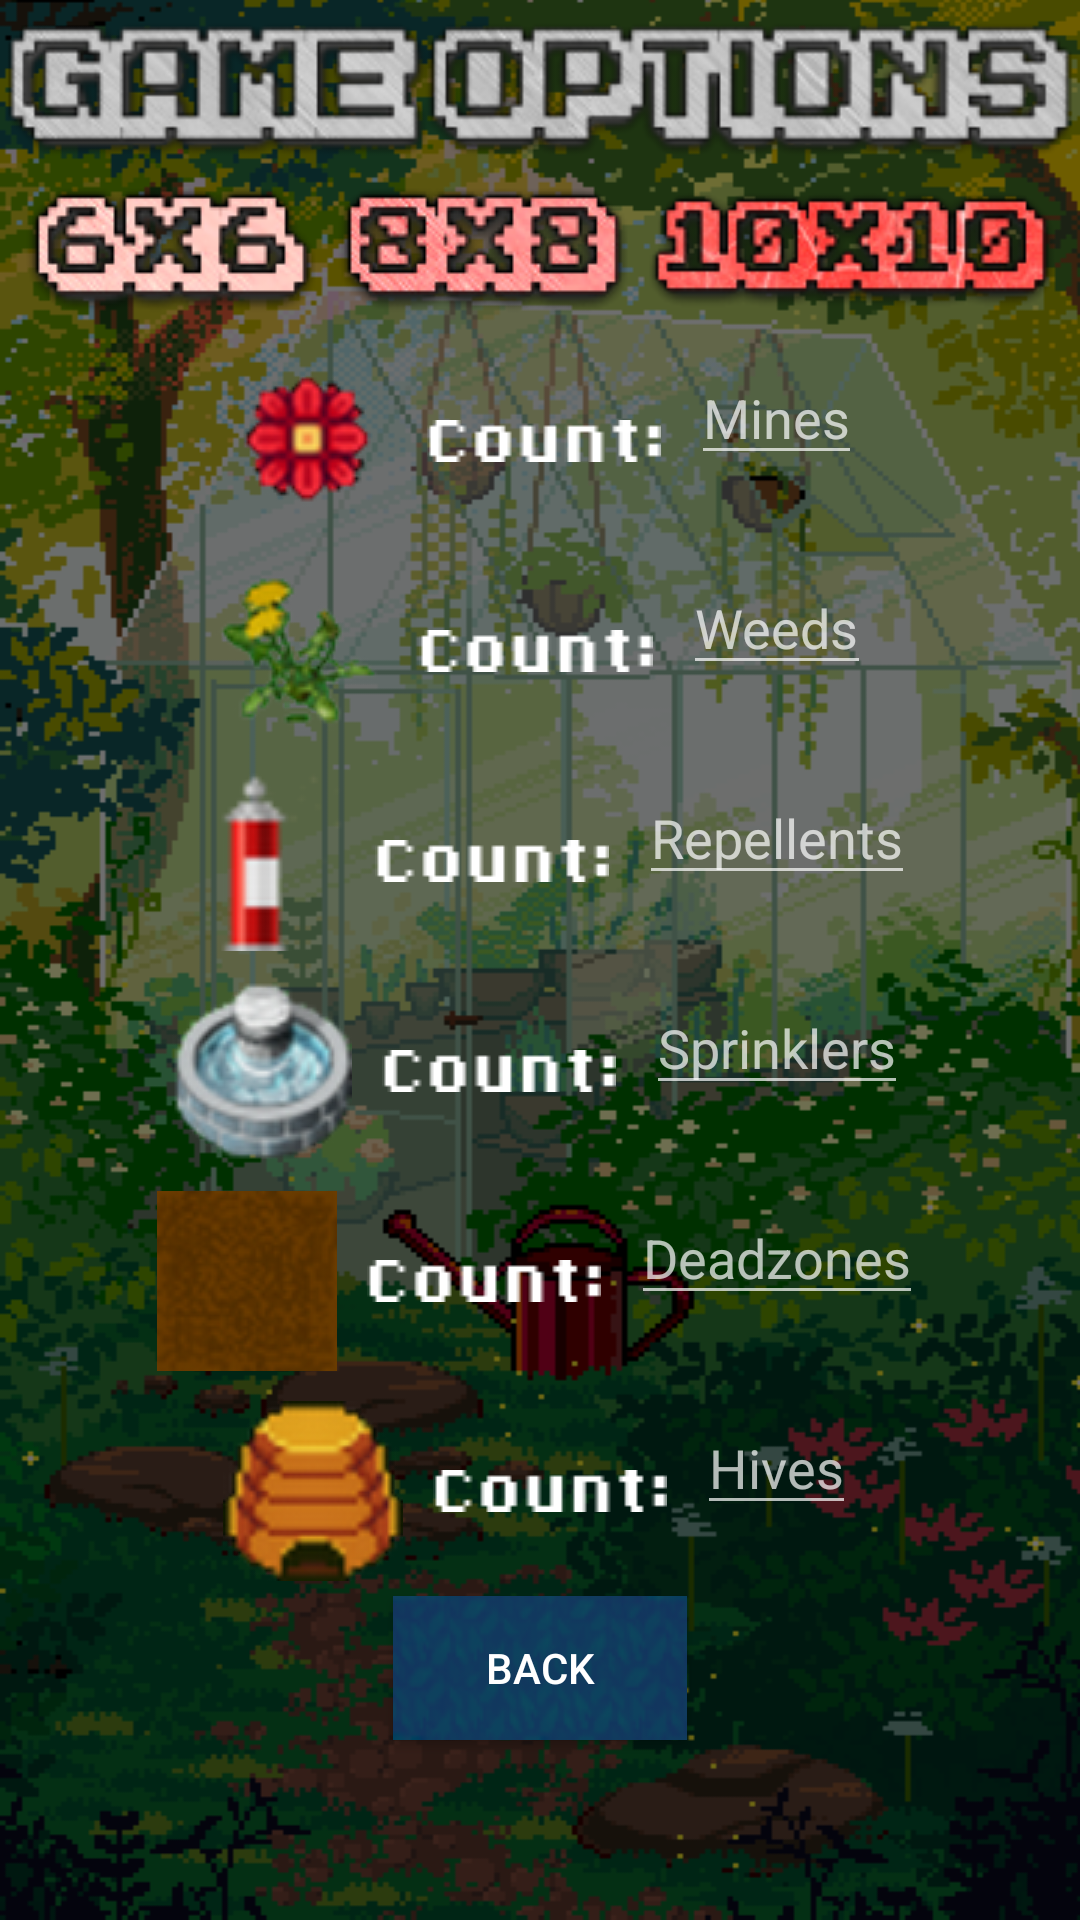

Screen size 1080×1920. Icon name, then its center in pixels as (x=x, y=y):
uihive: (x=313, y=1491)
uimine: (x=307, y=441)
uisprinkler: (x=262, y=1071)
uiweed: (x=299, y=651)
